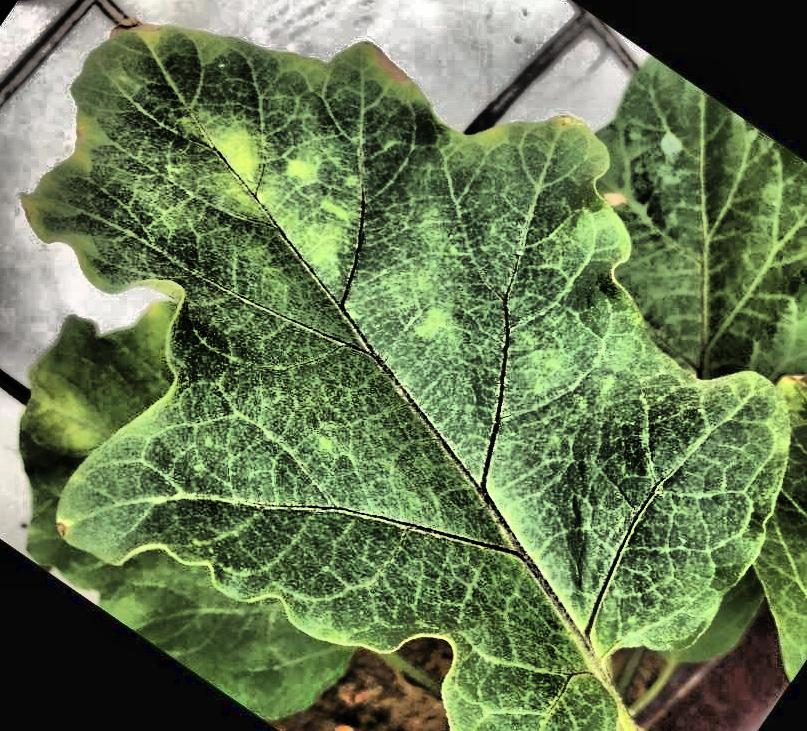Non-critical Stress: (0, 1, 807, 731)
